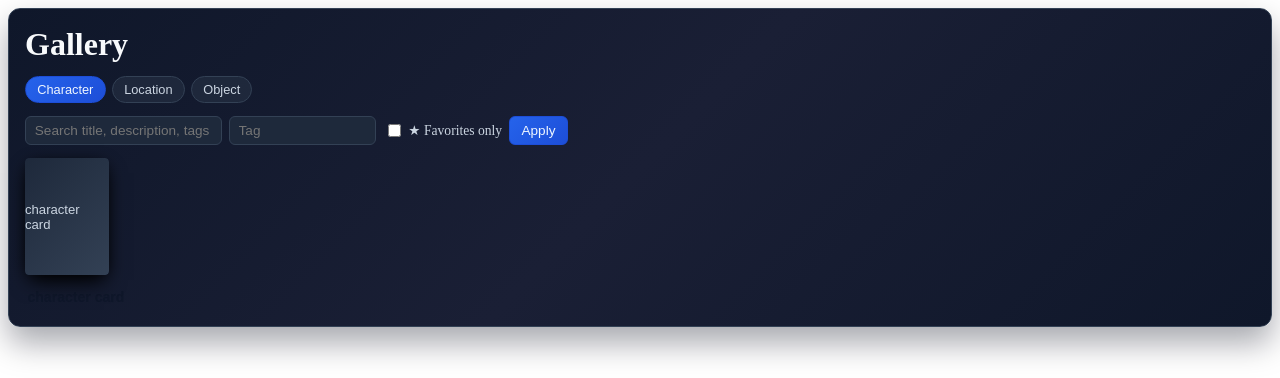
Test case: GalleryPage artifact tab filtering › sends selected Character/Location/Object artifact_type to /api/gallery
expect the button with aria-label "Open character card" is shown: met, box 25,158 -> 187,310
Click the tab "Location" at (148, 90), box 112,76 -> 185,103
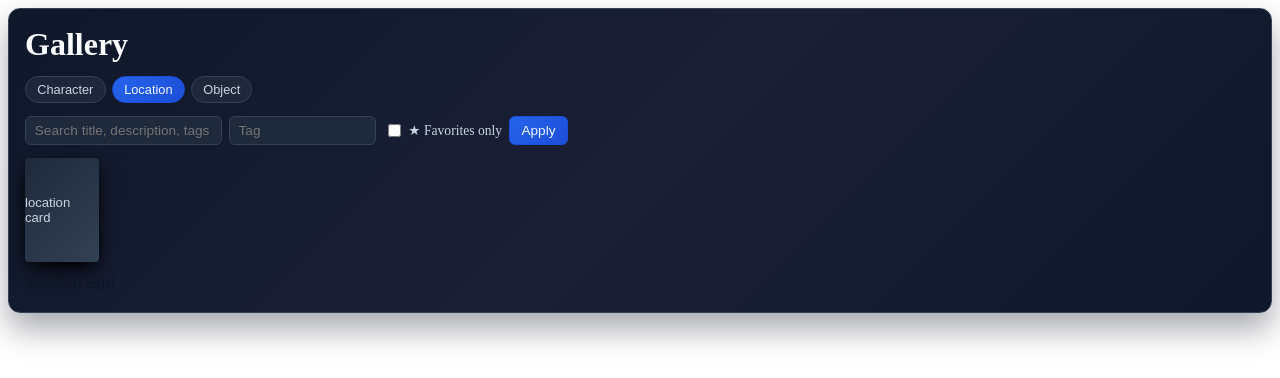
expect the button with aria-label "Open location card" is shown: met, box 25,158 -> 187,296
Click the tab "Object" at (222, 90), box 191,76 -> 252,103
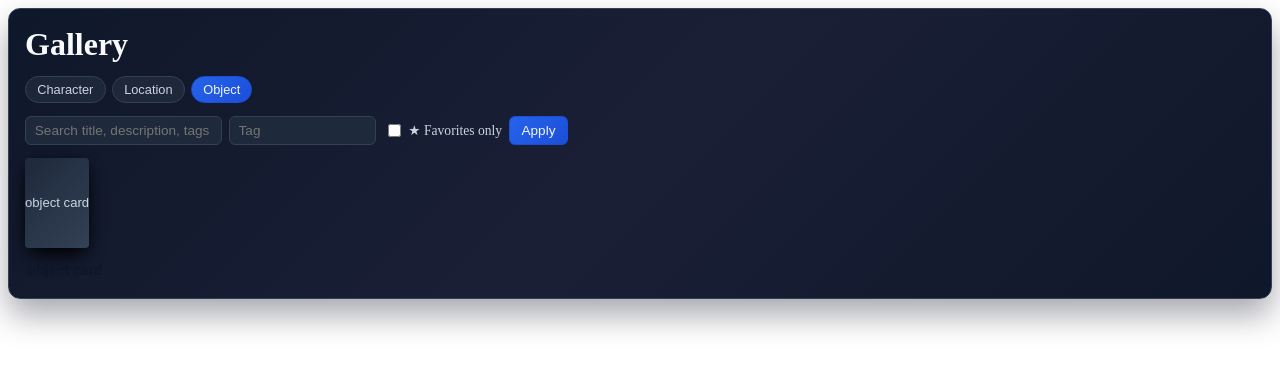
expect the button with aria-label "Open object card" is shown: met, box 25,158 -> 187,282
